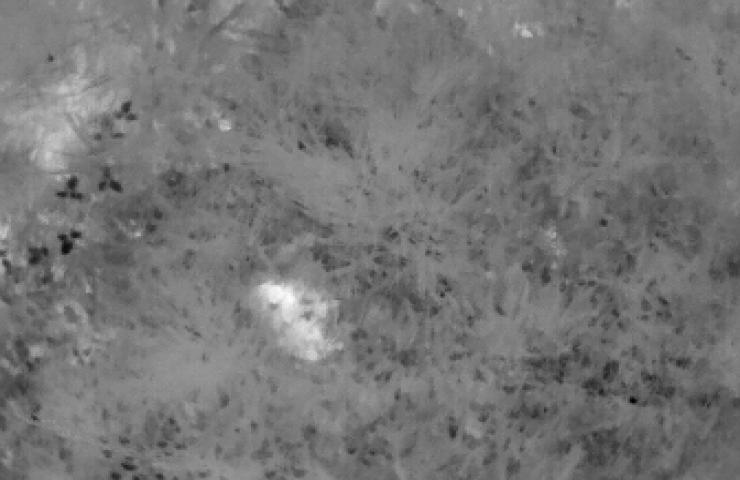landmines: (242, 278, 342, 366)
